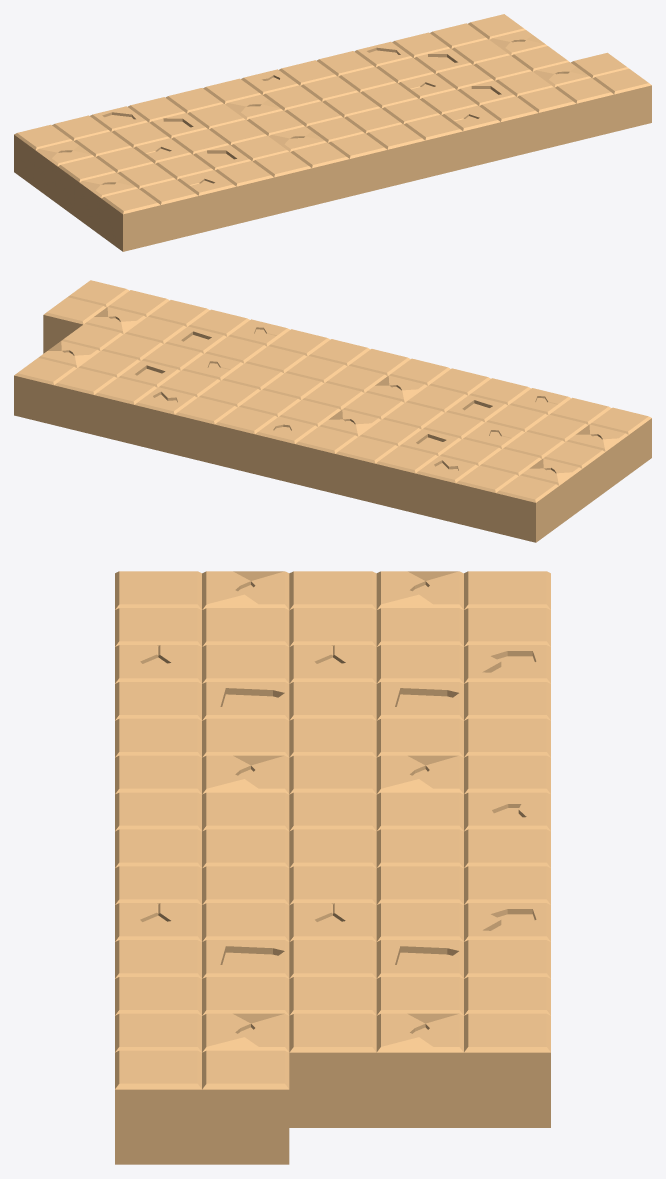
Rendered from 14x5 Floor.fbx.
3 renders of one model, top to bottom at view 1: azimuth 30°, elevation 25°; view 2: azimuth 150°, elevation 25°; view 3: azimuth 270°, elevation 25°, orthographic. The views are drawn at different scales.
Parts seen in each view (by area): view 1: Cube; view 2: Cube; view 3: Cube.
Boxes of the visible parts, x1=… form: Cube: x1=14, y1=14, x2=651, y2=251; Cube: x1=14, y1=280, x2=651, y2=542; Cube: x1=115, y1=571, x2=550, y2=1164.
Bounding box in the file's own units: 1400 × 100 × 500.
